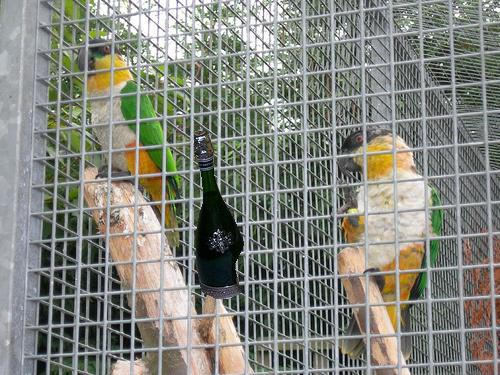tampered: (195, 132, 244, 299)
